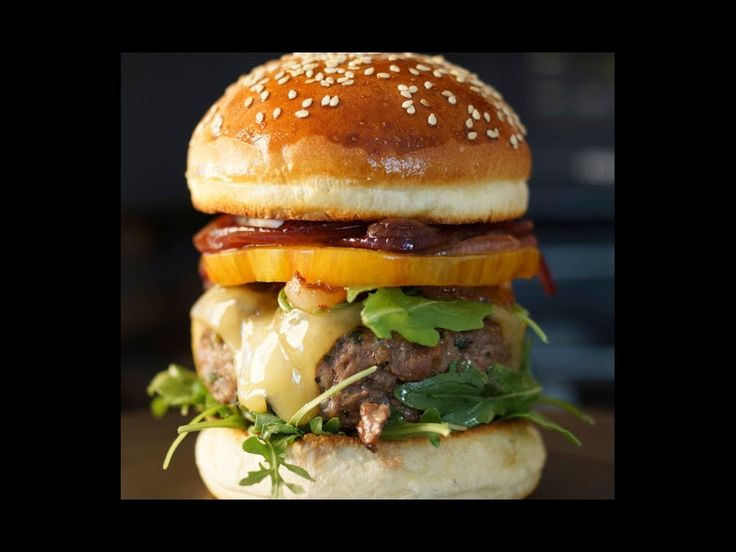hamburger: (143, 51, 569, 522)
